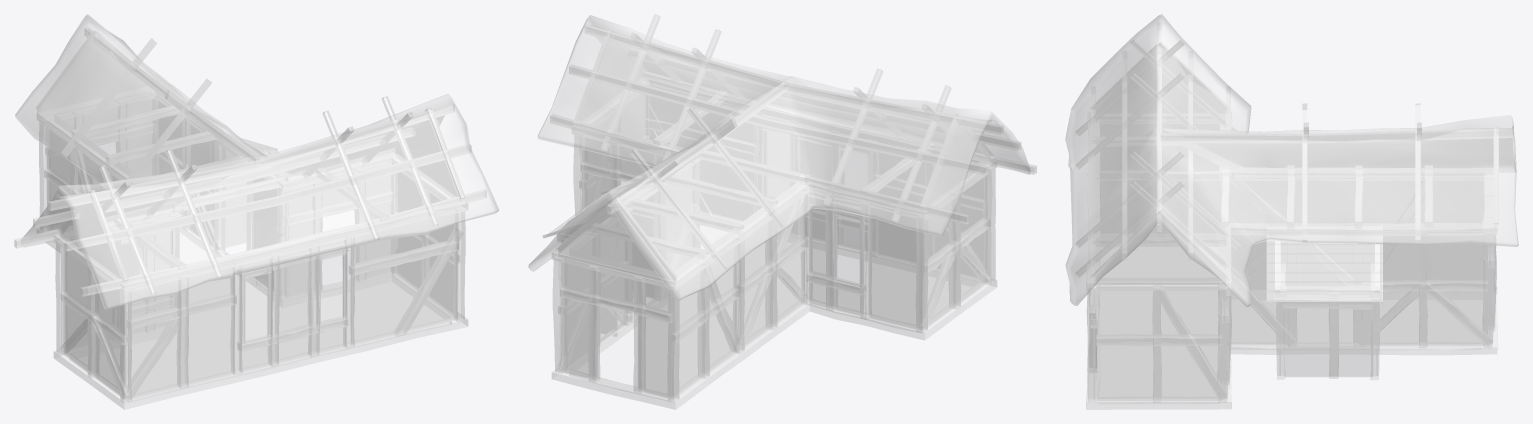
Rendered from p3d_medieval_enterable_bld_13_71ad5b78.glb.
3 views of the same model, side by side, from view 1: azimuth 30°, elevation 25°; view 2: azimuth 150°, elevation 25°; view 3: azimuth 270°, elevation 25° (orthographic). The views are drawn at different scales.
Visible parts, largest first — view 1: p3d_medieval_enterable_bld-13; view 2: p3d_medieval_enterable_bld-13; view 3: p3d_medieval_enterable_bld-13.
Boxes of the visible parts, bbox=[...] form: p3d_medieval_enterable_bld-13: bbox=[14, 14, 498, 409]; p3d_medieval_enterable_bld-13: bbox=[528, 14, 1036, 409]; p3d_medieval_enterable_bld-13: bbox=[1065, 14, 1518, 409].
Size of the model in its own units: 1156 by 562 by 1087.
7 materials, 1 textured.
